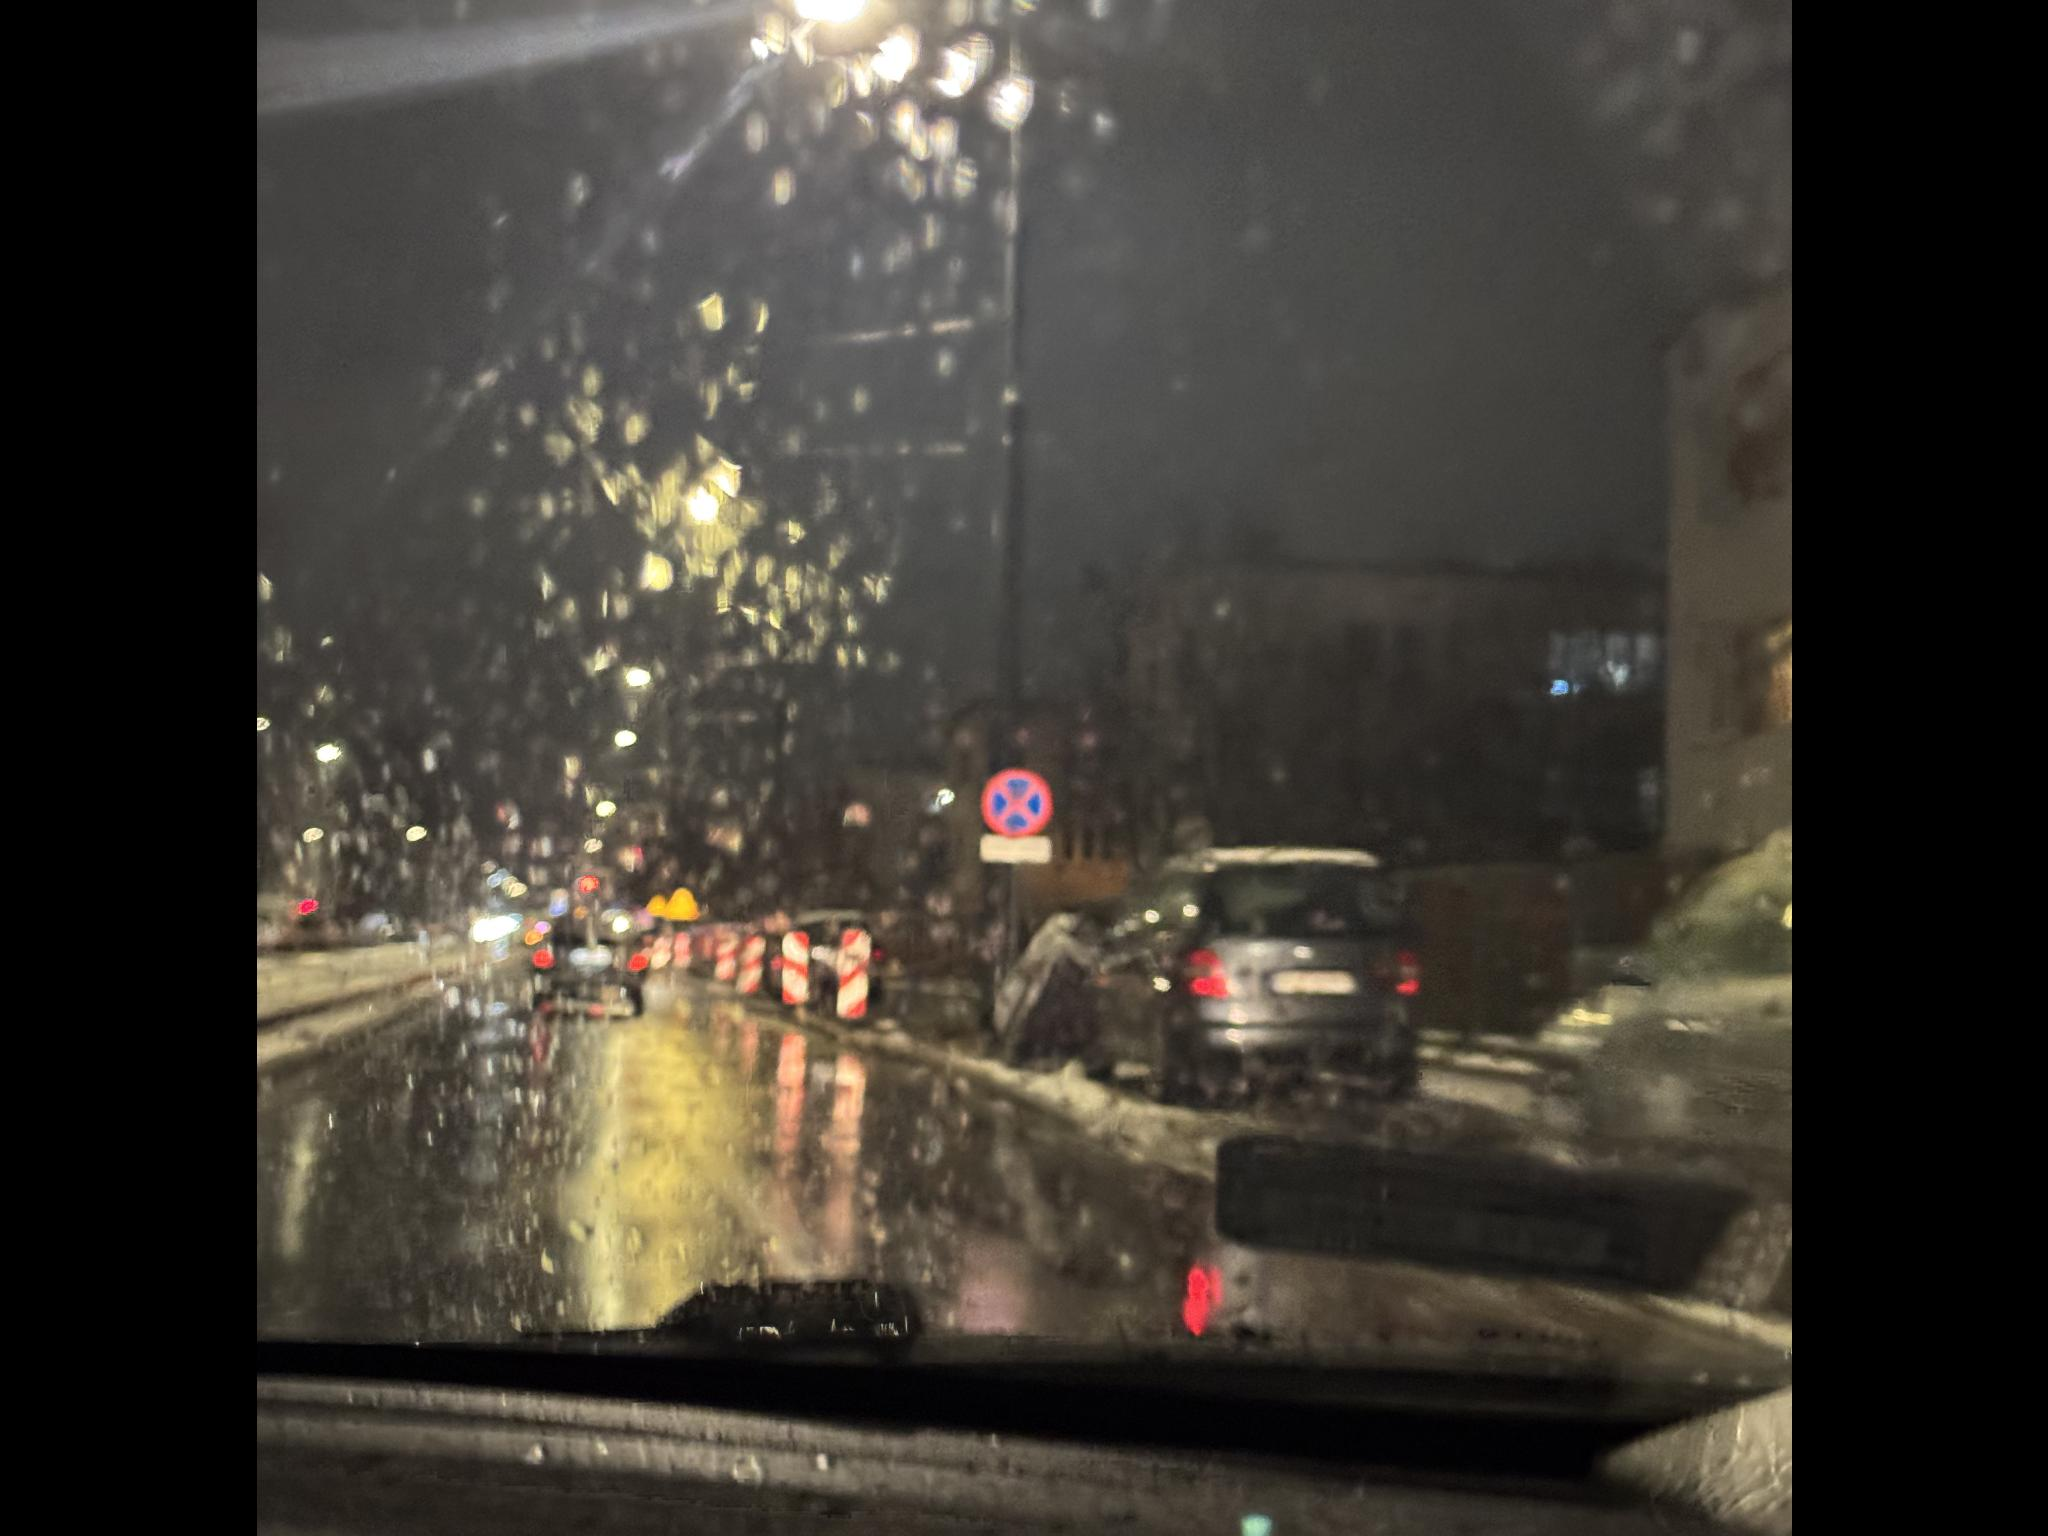prohibitory: (698, 466, 769, 542)
